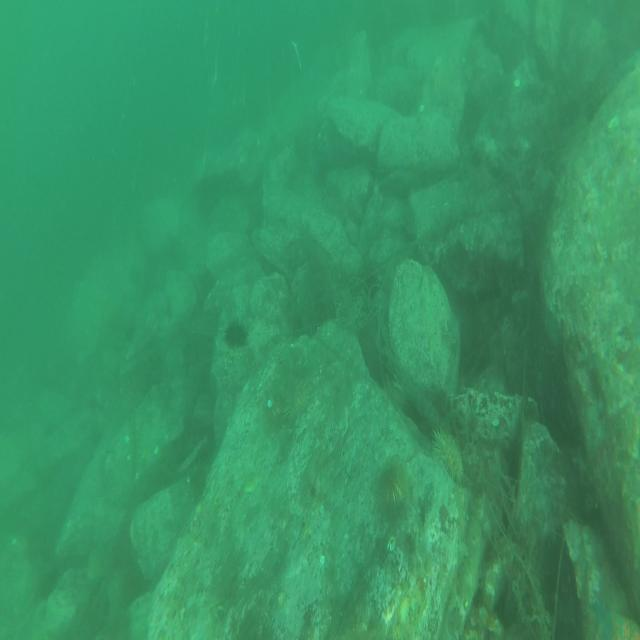echinus: (430, 422, 467, 486), (372, 453, 409, 516), (287, 366, 312, 426), (263, 379, 287, 432), (223, 316, 251, 354)
starfish: (590, 592, 639, 640)
